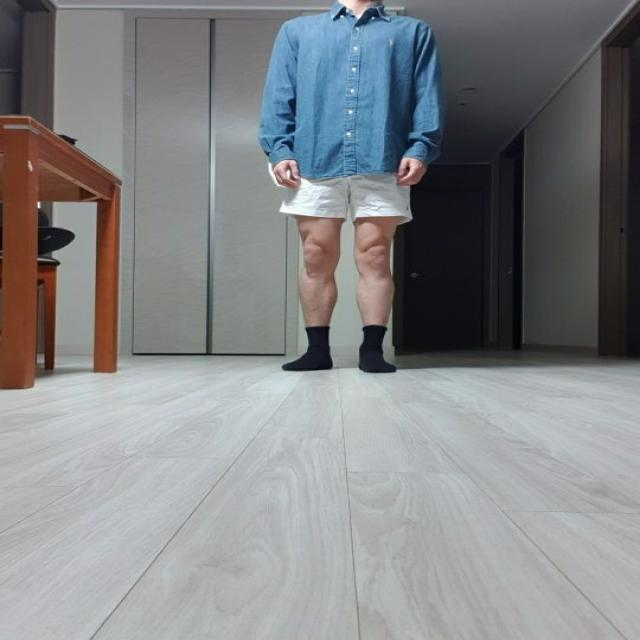shirt: (261, 2, 445, 186)
shortpants: (279, 168, 416, 223)
